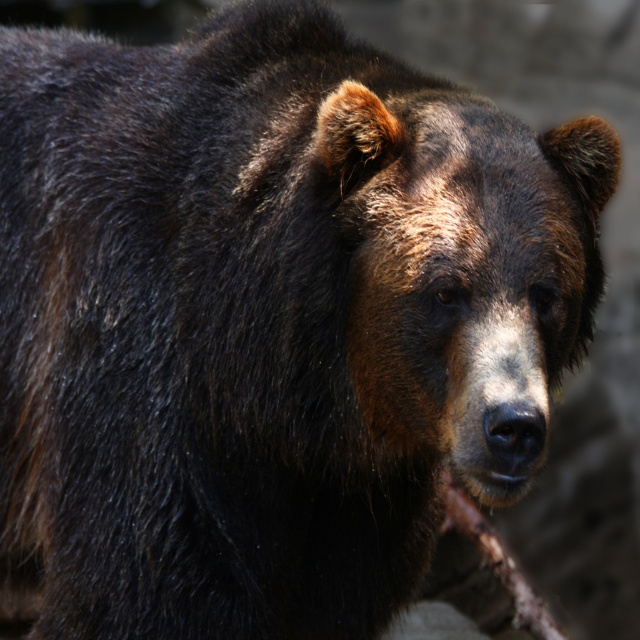Bear: (0, 0, 620, 640)
